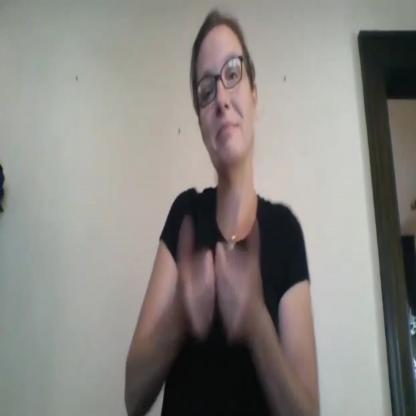HowAreYou: (172, 209, 266, 352)
